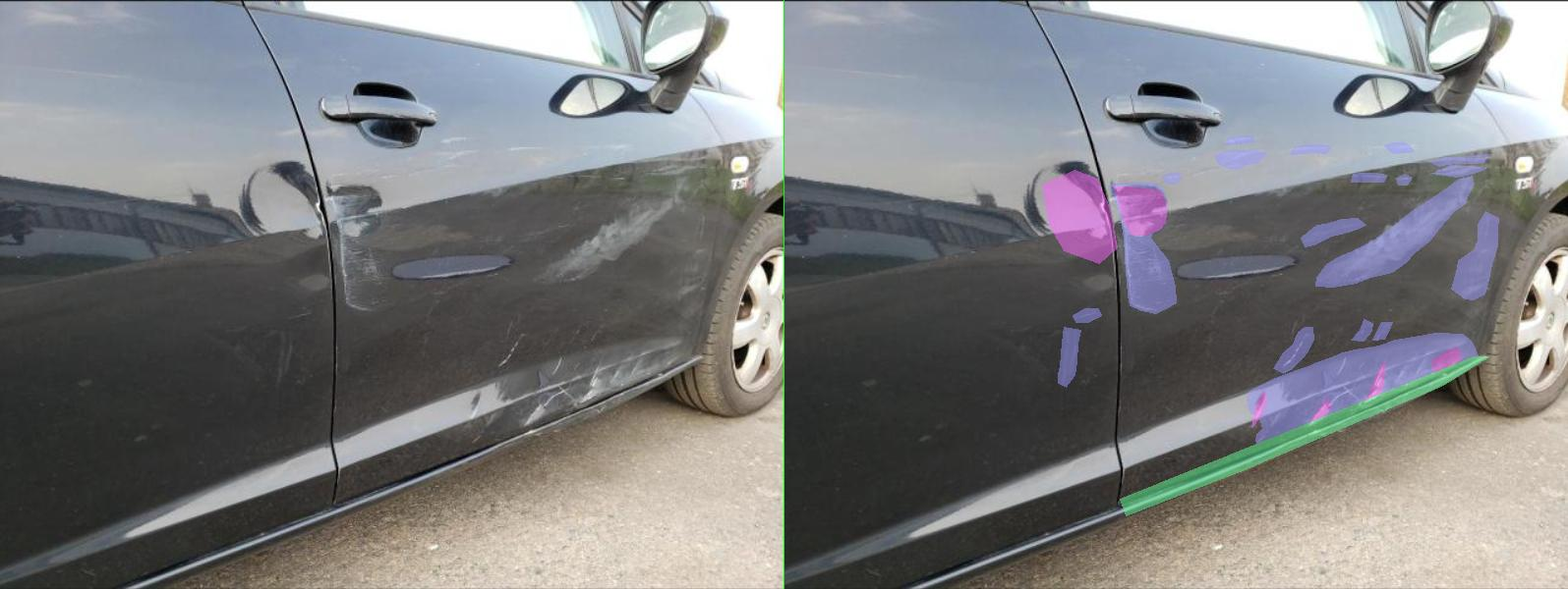Broken part: (671, 356, 1409, 515)
Dent: (515, 170, 665, 263), (659, 187, 763, 235), (1147, 360, 1200, 405), (1041, 398, 1094, 428), (1297, 348, 1354, 371), (935, 390, 964, 427)
Scratch: (925, 333, 1389, 447), (1062, 176, 1379, 287), (649, 183, 783, 313), (1334, 211, 1428, 299), (978, 327, 1058, 373), (1033, 218, 1163, 246), (547, 327, 592, 387), (860, 150, 964, 169), (992, 333, 1043, 368), (1289, 154, 1409, 166), (1297, 165, 1403, 177), (1084, 387, 1133, 408), (1133, 319, 1176, 341), (1047, 403, 1084, 427), (1011, 144, 1094, 154), (576, 308, 633, 322), (1176, 322, 1216, 340), (1119, 388, 1161, 404), (1133, 173, 1206, 182), (1200, 142, 1259, 153), (881, 135, 940, 144), (754, 172, 795, 184), (1108, 354, 1129, 375), (1178, 366, 1196, 386), (1224, 174, 1255, 185), (942, 397, 958, 418), (1259, 357, 1277, 374)
